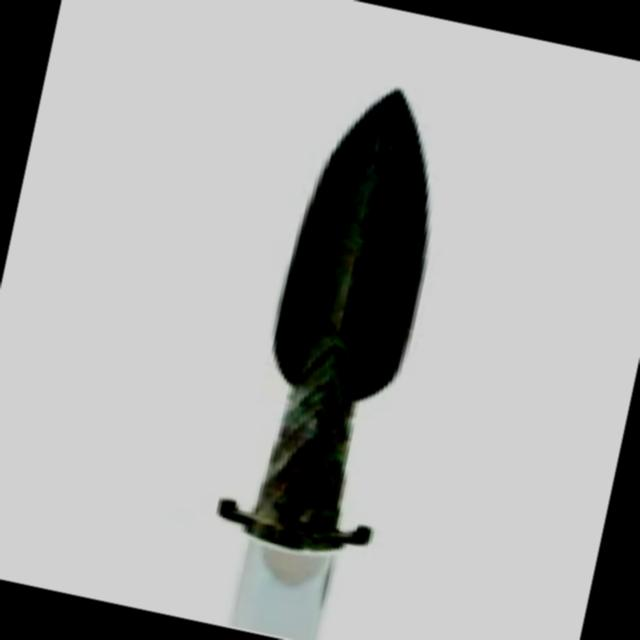spear: (160, 47, 506, 640)
